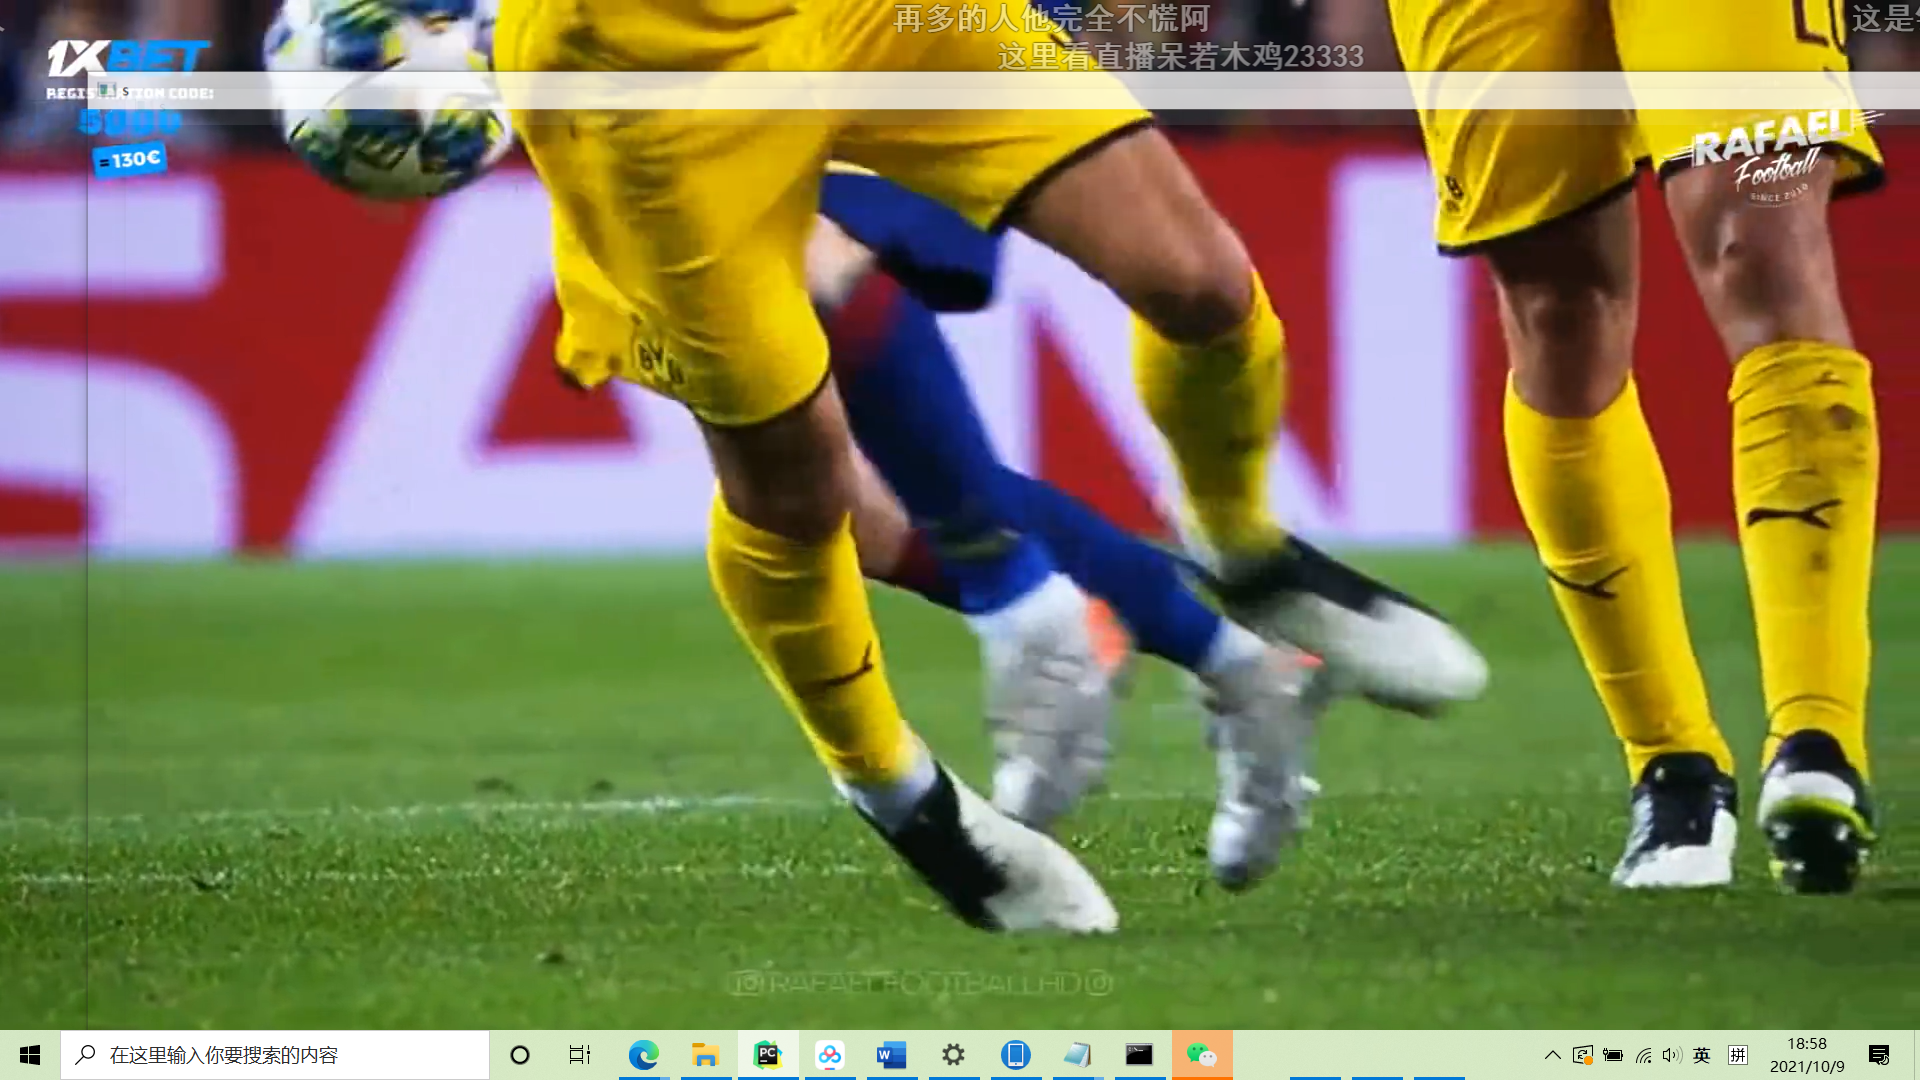ft: (247, 7, 524, 207)
